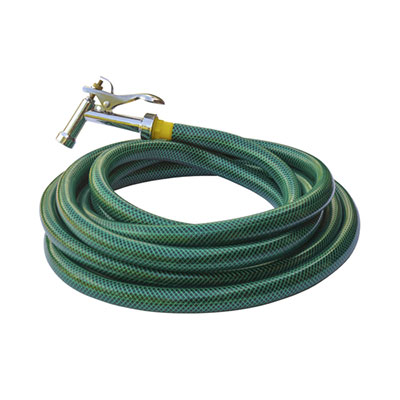Nonrec_Tangler: (28, 62, 368, 332)
